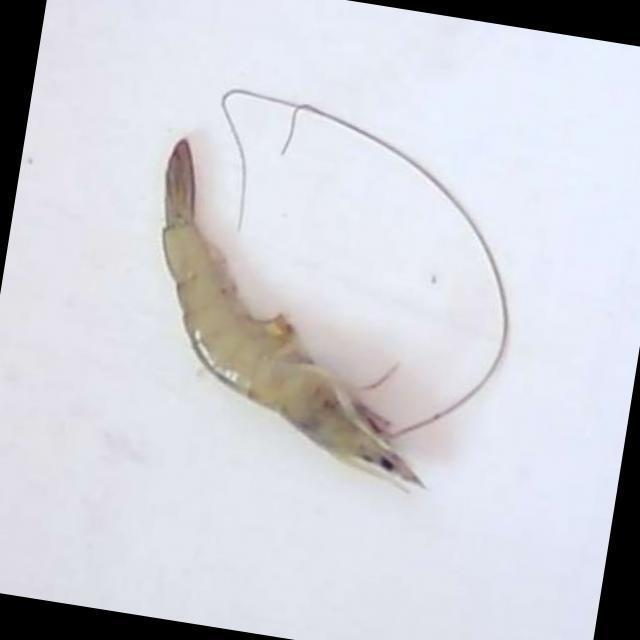shrimp: (163, 141, 424, 490)
